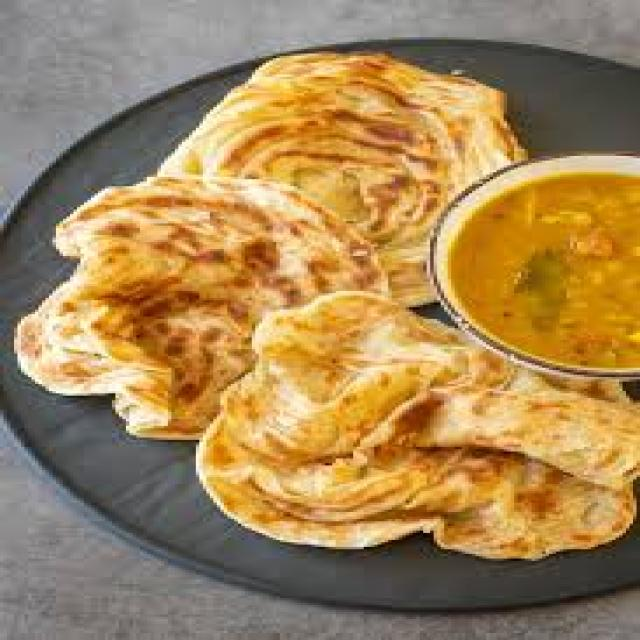Paratha: (230, 296, 640, 580), (189, 48, 576, 342), (68, 173, 394, 410)
